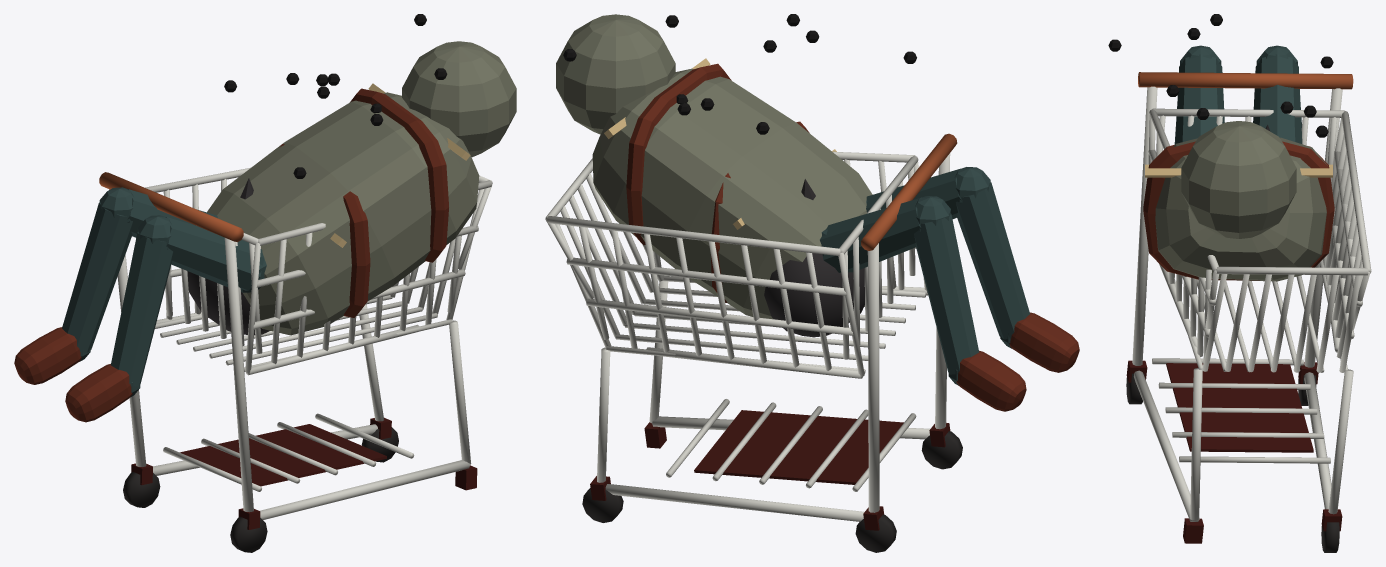
Rendered from cart.glb.
3 renders of one model, left to right at view 1: azimuth 30°, elevation 25°; view 2: azimuth 150°, elevation 25°; view 3: azimuth 270°, elevation 25°, orthographic. The views are drawn at different scales.
Visible parts, largest first — view 1: cart; view 2: cart; view 3: cart.
Part boxes in pixels (box(x1,y1,x2,y2)): cart: box(14, 14, 516, 552); cart: box(545, 14, 1079, 552); cart: box(1108, 14, 1371, 552).
Bounding box in the file's own units: 1.55 × 1.48 × 0.7558.
